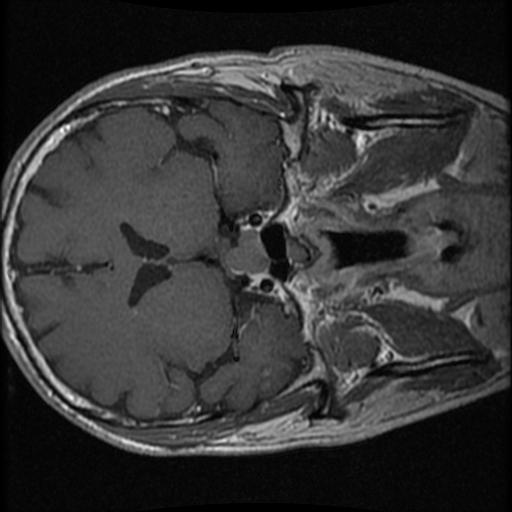pituitary tumour: (220, 225, 270, 279)
